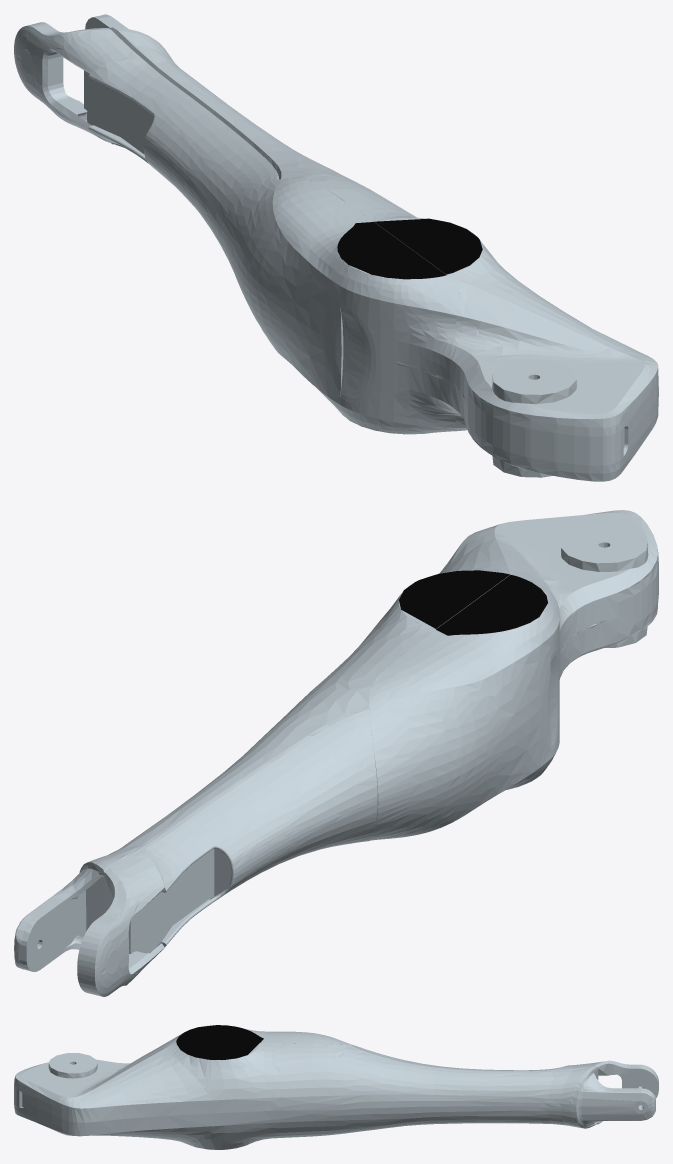
The model's file is left_knee_link.dae.
3 renders of one model, top to bottom at view 1: azimuth 30°, elevation 25°; view 2: azimuth 150°, elevation 25°; view 3: azimuth 270°, elevation 25°, orthographic. The views are drawn at different scales.
Parts seen in each view (by area): view 1: left_knee_link; view 2: left_knee_link; view 3: left_knee_link.
Part boxes in pixels (box(x1,y1,x2,y2)): left_knee_link: box(14, 14, 658, 481); left_knee_link: box(14, 510, 658, 996); left_knee_link: box(14, 1025, 658, 1149).
Bounding box in the file's own units: 0.1188 × 0.0867 × 0.564.
